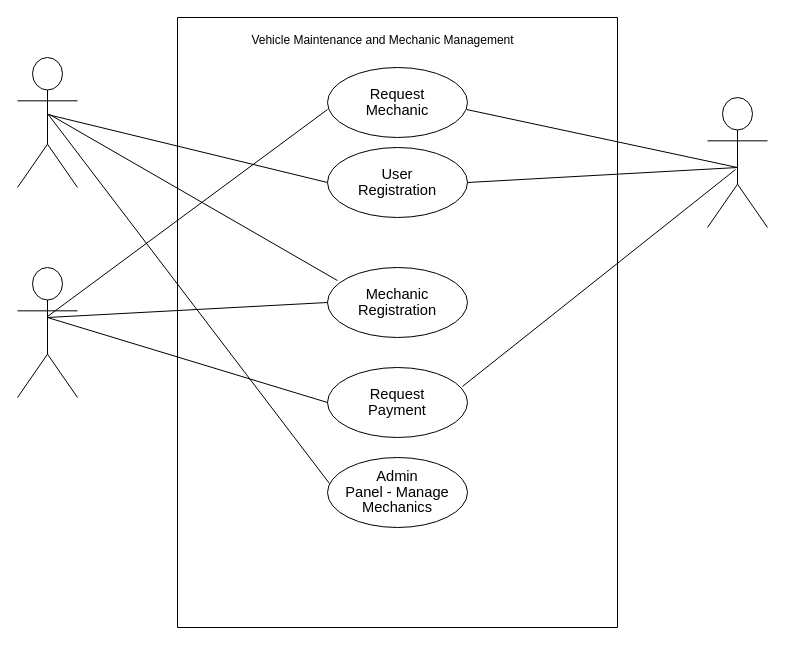
This 785x645 diagram has some shape labels left out. The centre of each missing label's shape, as x and y in pixels:
"Admin" goes at (47,122).
"Mechanic" goes at (47,332).
"User" goes at (737,162).
